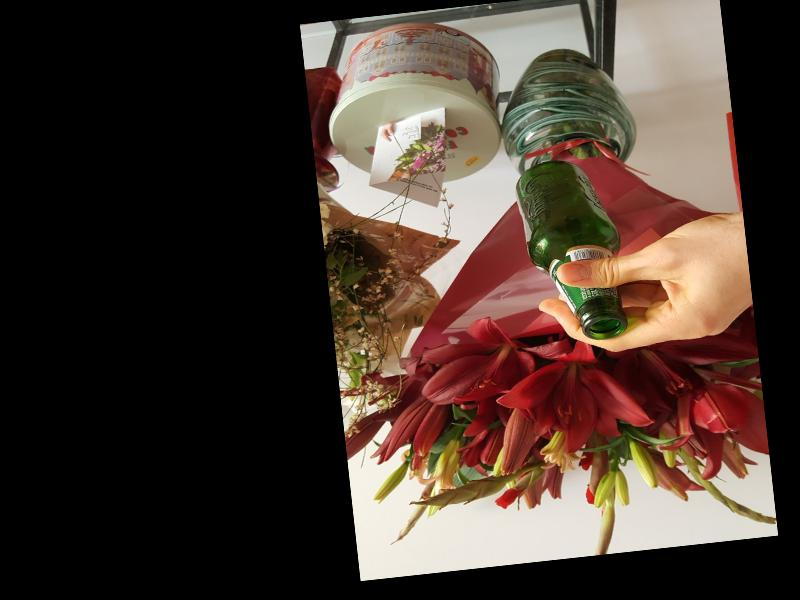Beer: (512, 155, 630, 346)
